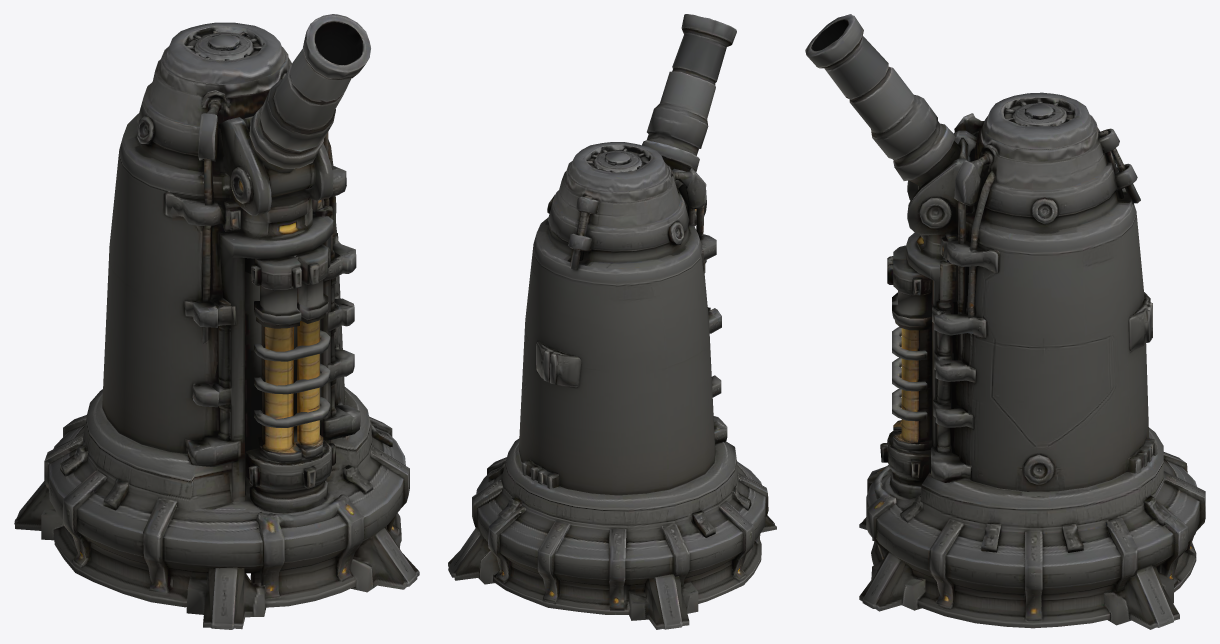
File: mortar-drum.glb
3 renders of one model, left to right at view 1: azimuth 30°, elevation 25°; view 2: azimuth 150°, elevation 25°; view 3: azimuth 270°, elevation 25°, orthographic. The views are drawn at different scales.
Visible parts, largest first — view 1: tripo_node_1705554c-39a3-4746-95e6-e31cbcf19e95; view 2: tripo_node_1705554c-39a3-4746-95e6-e31cbcf19e95; view 3: tripo_node_1705554c-39a3-4746-95e6-e31cbcf19e95.
Part boxes in pixels (x1,y1,x2,y2): tripo_node_1705554c-39a3-4746-95e6-e31cbcf19e95: (14,14,419,629); tripo_node_1705554c-39a3-4746-95e6-e31cbcf19e95: (448,14,776,629); tripo_node_1705554c-39a3-4746-95e6-e31cbcf19e95: (805,14,1205,629).
Bounding box in the file's own units: 0.5605 × 0.998 × 0.666.
Materials: 1 (1 with a texture image).
